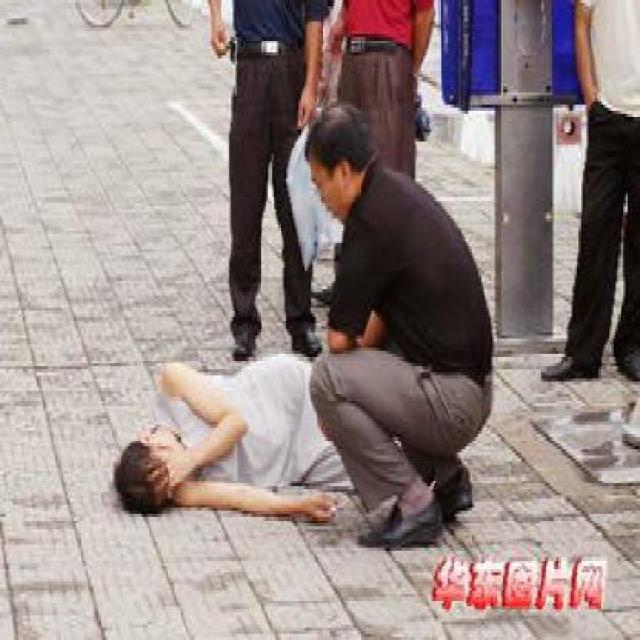fall: (92, 326, 356, 529)
